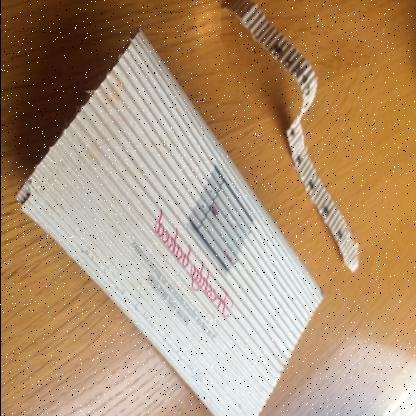cardboard: (14, 27, 329, 415), (218, 0, 362, 272)
